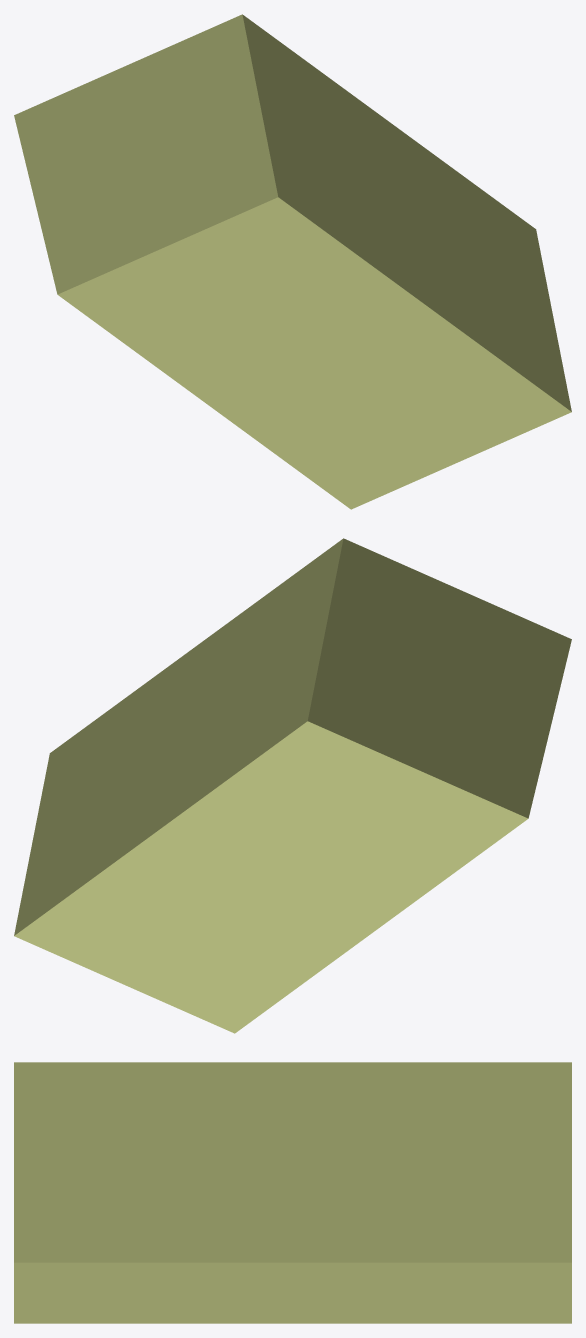
3 views of the same model, one above another, from view 1: azimuth 30°, elevation 25°; view 2: azimuth 150°, elevation 25°; view 3: azimuth 270°, elevation 25° (orthographic). The views are drawn at different scales.
Visible parts, largest first — view 1: 0_1_3_2_1_2_2_1_0_3_1_0; view 2: 0_1_3_2_1_2_2_1_0_3_1_0; view 3: 0_1_3_2_1_2_2_1_0_3_1_0.
Part boxes in pixels (left/top/right/bottom): 0_1_3_2_1_2_2_1_0_3_1_0: left=14, top=14, right=571, bottom=509; 0_1_3_2_1_2_2_1_0_3_1_0: left=14, top=538, right=571, bottom=1033; 0_1_3_2_1_2_2_1_0_3_1_0: left=14, top=1062, right=571, bottom=1323.
Bounding box in the file's own units: 4.68 × 3.98 × 9.
